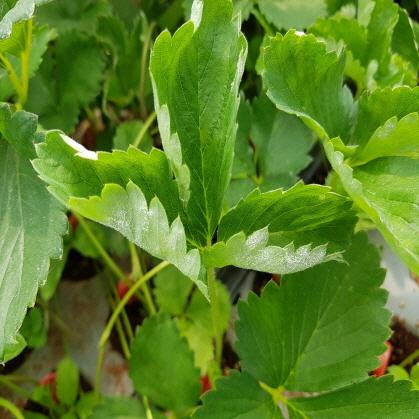Powdery Mildew Leaf: (28, 129, 211, 303), (147, 0, 248, 244), (203, 177, 361, 274)
